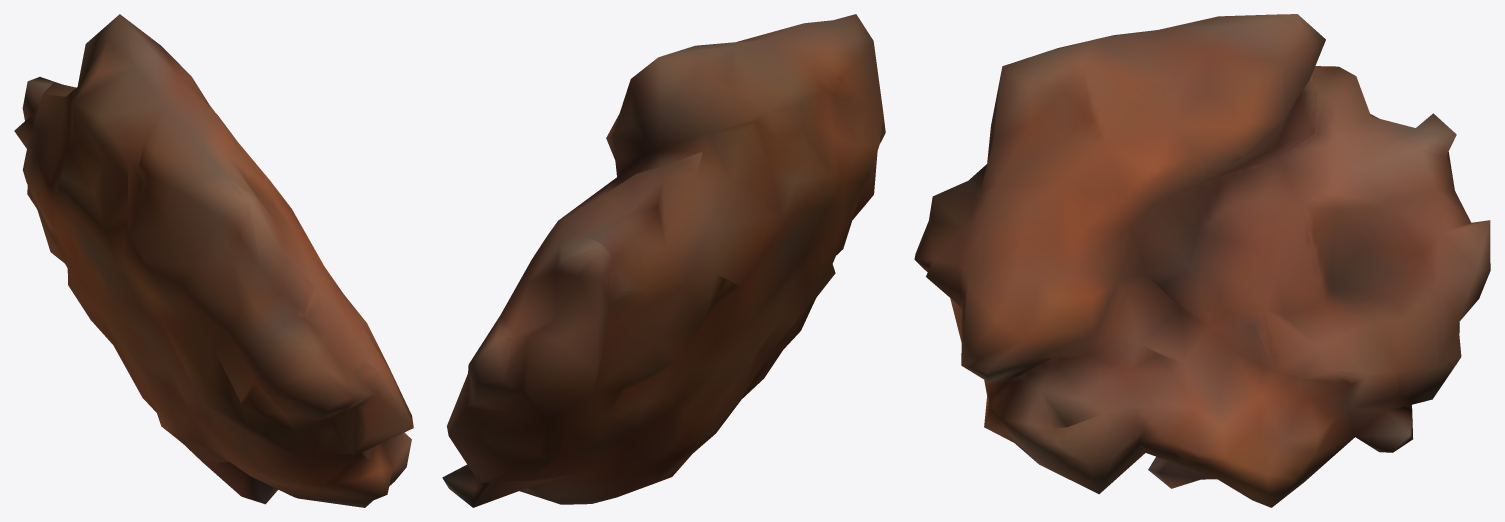
Rendered from rusty_scrap.glb.
3 views of the same model, side by side, from view 1: azimuth 30°, elevation 25°; view 2: azimuth 150°, elevation 25°; view 3: azimuth 270°, elevation 25° (orthographic). The views are drawn at different scales.
Visible parts, largest first — view 1: model; view 2: model; view 3: model.
Part boxes in pixels (x1,y1,x2,y2): model: (14, 14, 413, 507); model: (442, 14, 885, 507); model: (914, 14, 1490, 507).
Size of the model in its own units: 0.2062 by 0.3329 by 0.3967.
1 material, 1 textured.
